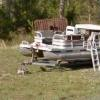Boat: (21, 18, 99, 75)
